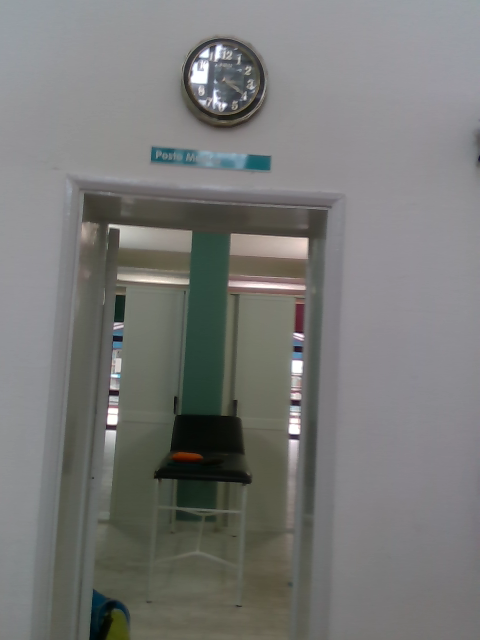open: (31, 176, 344, 639)
